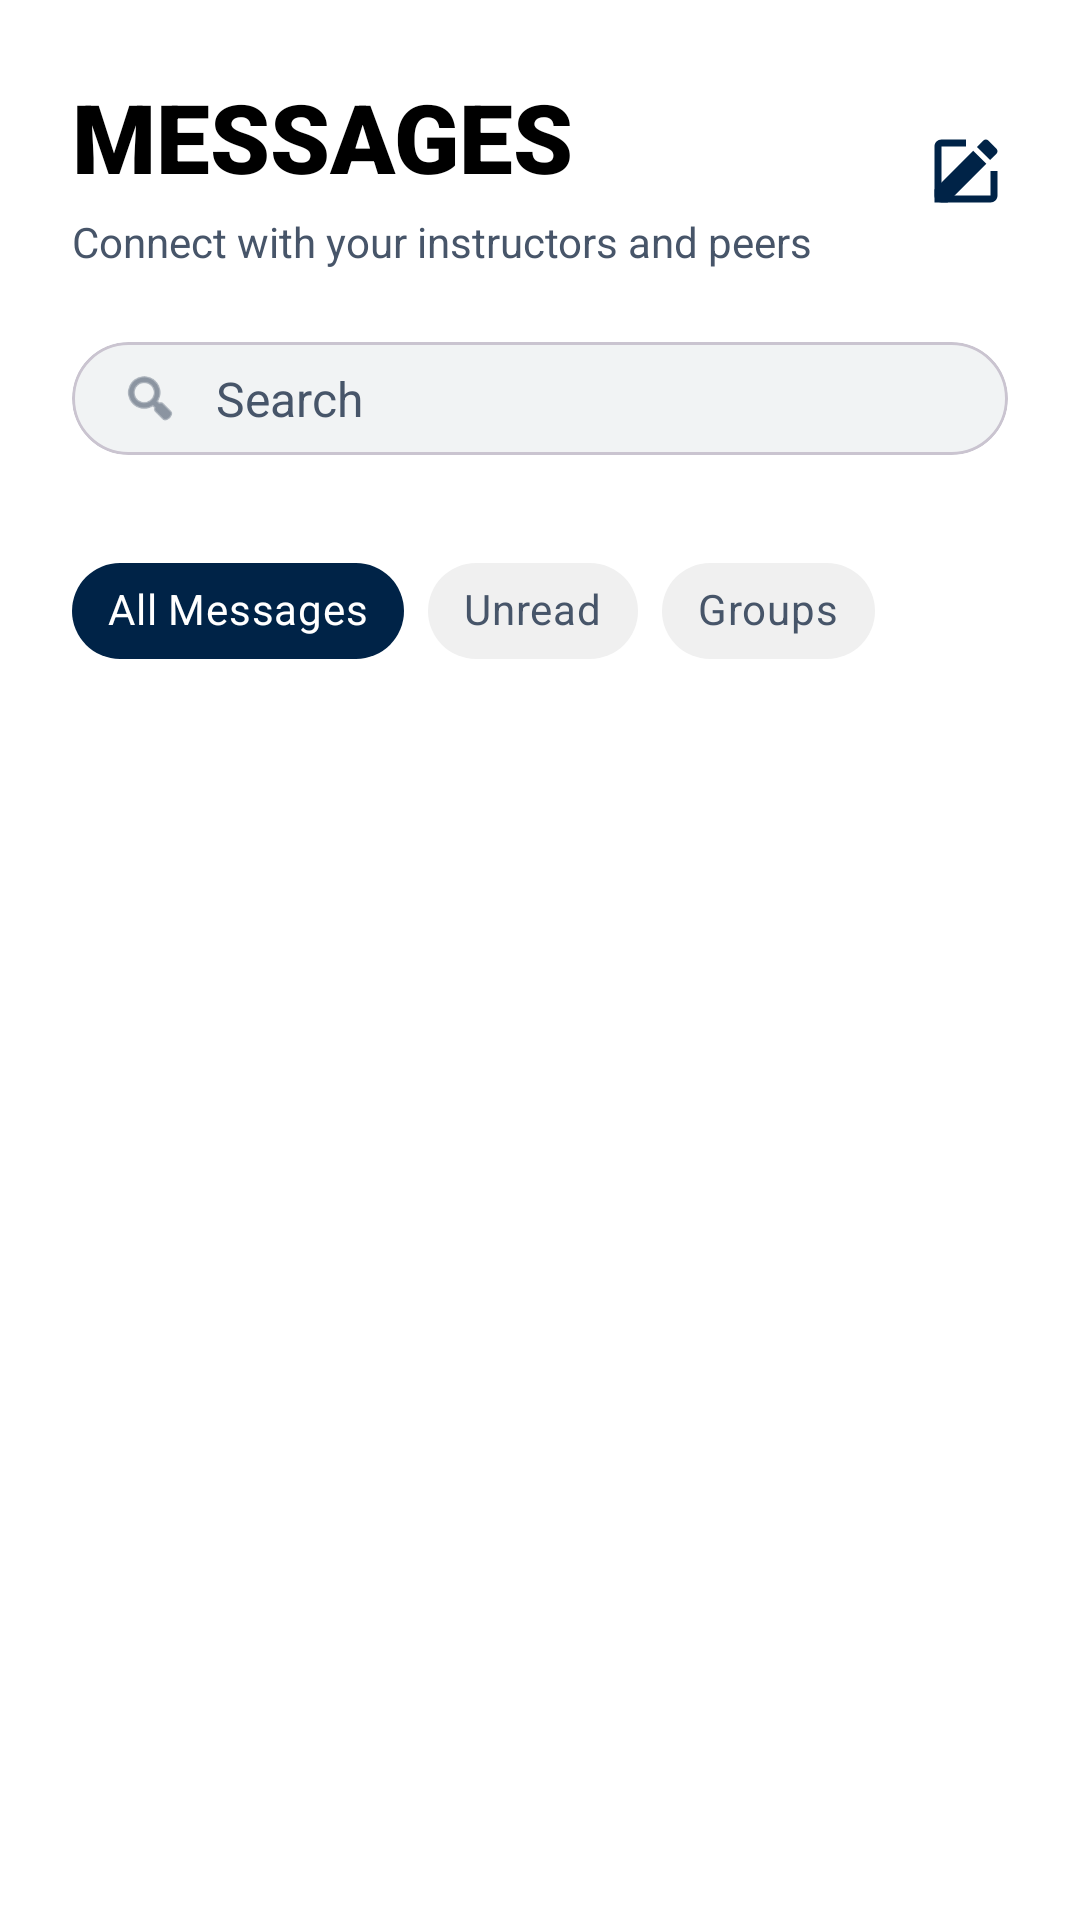

Icon bounding boxes for this 1080*1920 phone screenshot, format [left=x1, top=y1, right=x2, bottom=y2]:
edit square: [left=934, top=139, right=998, bottom=203]
